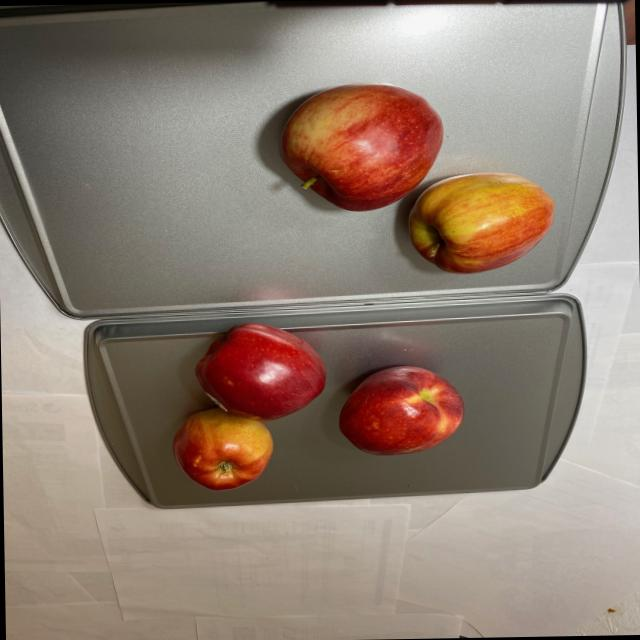apple: (270, 82, 556, 280), (168, 324, 468, 492)
